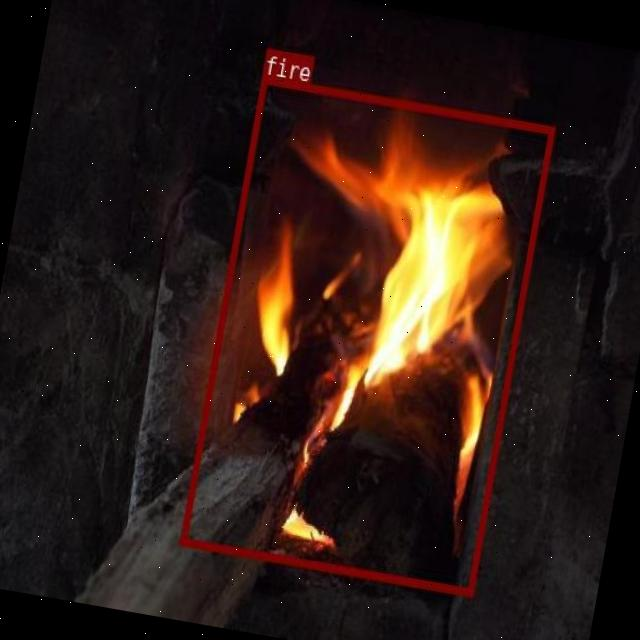fire: (179, 76, 554, 594)
